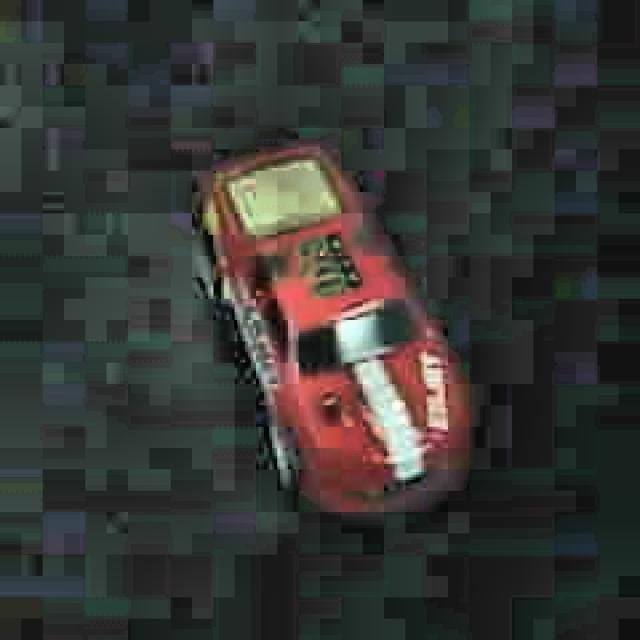car: (193, 135, 475, 517)
